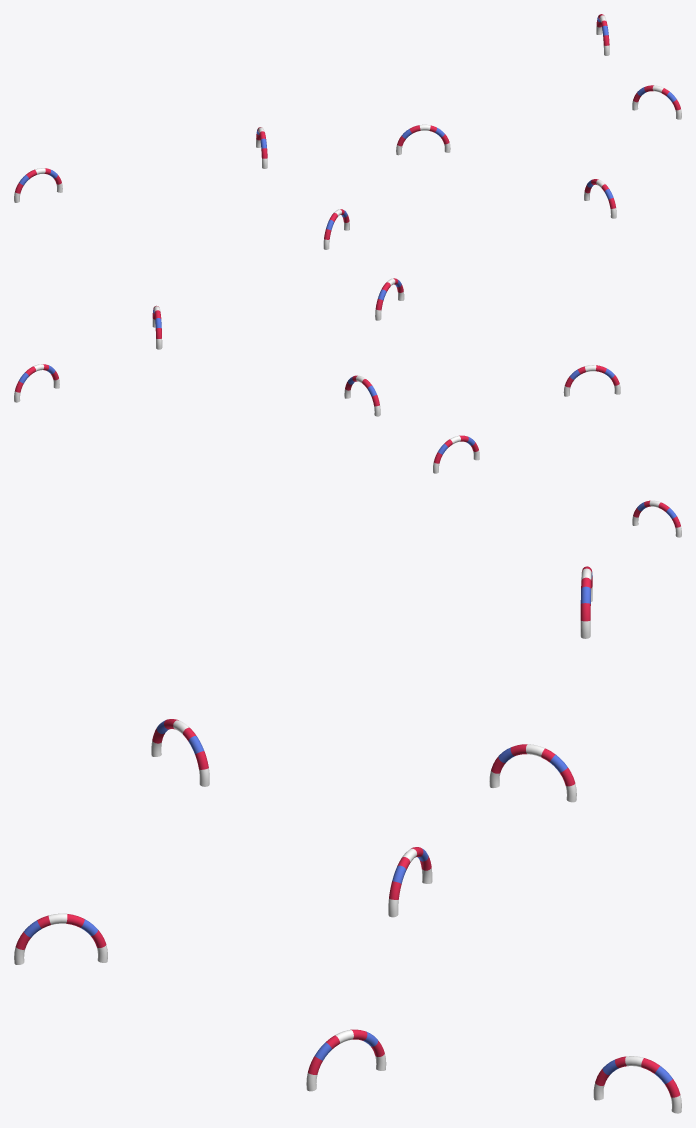
File: gate.glb
3 renders of one model, top to bottom at view 1: azimuth 30°, elevation 25°; view 2: azimuth 150°, elevation 25°; view 3: azimuth 270°, elevation 25°, orthographic. The views are drawn at different scales.
Parts seen in each view (by area): view 1: gate.001, gate.007, gate.002, gate.003, gate.004; view 2: gate.004, gate.002, gate.005, gate.006, gate.001, gate.003; view 3: gate.003, gate.006, gate.005, gate.007, gate.004, gate.001, gate.002.
Boxes of the visible parts, x1,y1,x2,y2 form: gate.001: (396,124,450,155); gate.007: (632,85,681,119); gate.002: (14,168,62,202); gate.003: (584,179,616,218); gate.004: (323,209,349,249); gate.004: (563,365,620,396); gate.002: (632,500,681,537); gate.005: (433,435,479,473); gate.006: (14,364,59,402); gate.001: (344,375,380,416); gate.003: (375,278,404,320); gate.003: (14,913,107,964); gate.006: (593,1056,681,1113); gate.005: (489,744,576,802); gate.007: (306,1029,386,1091); gate.004: (151,719,209,786); gate.001: (388,847,432,917); gate.002: (580,566,592,638).
Size of the model in its own units: 175 by 7.67 by 95.78.
